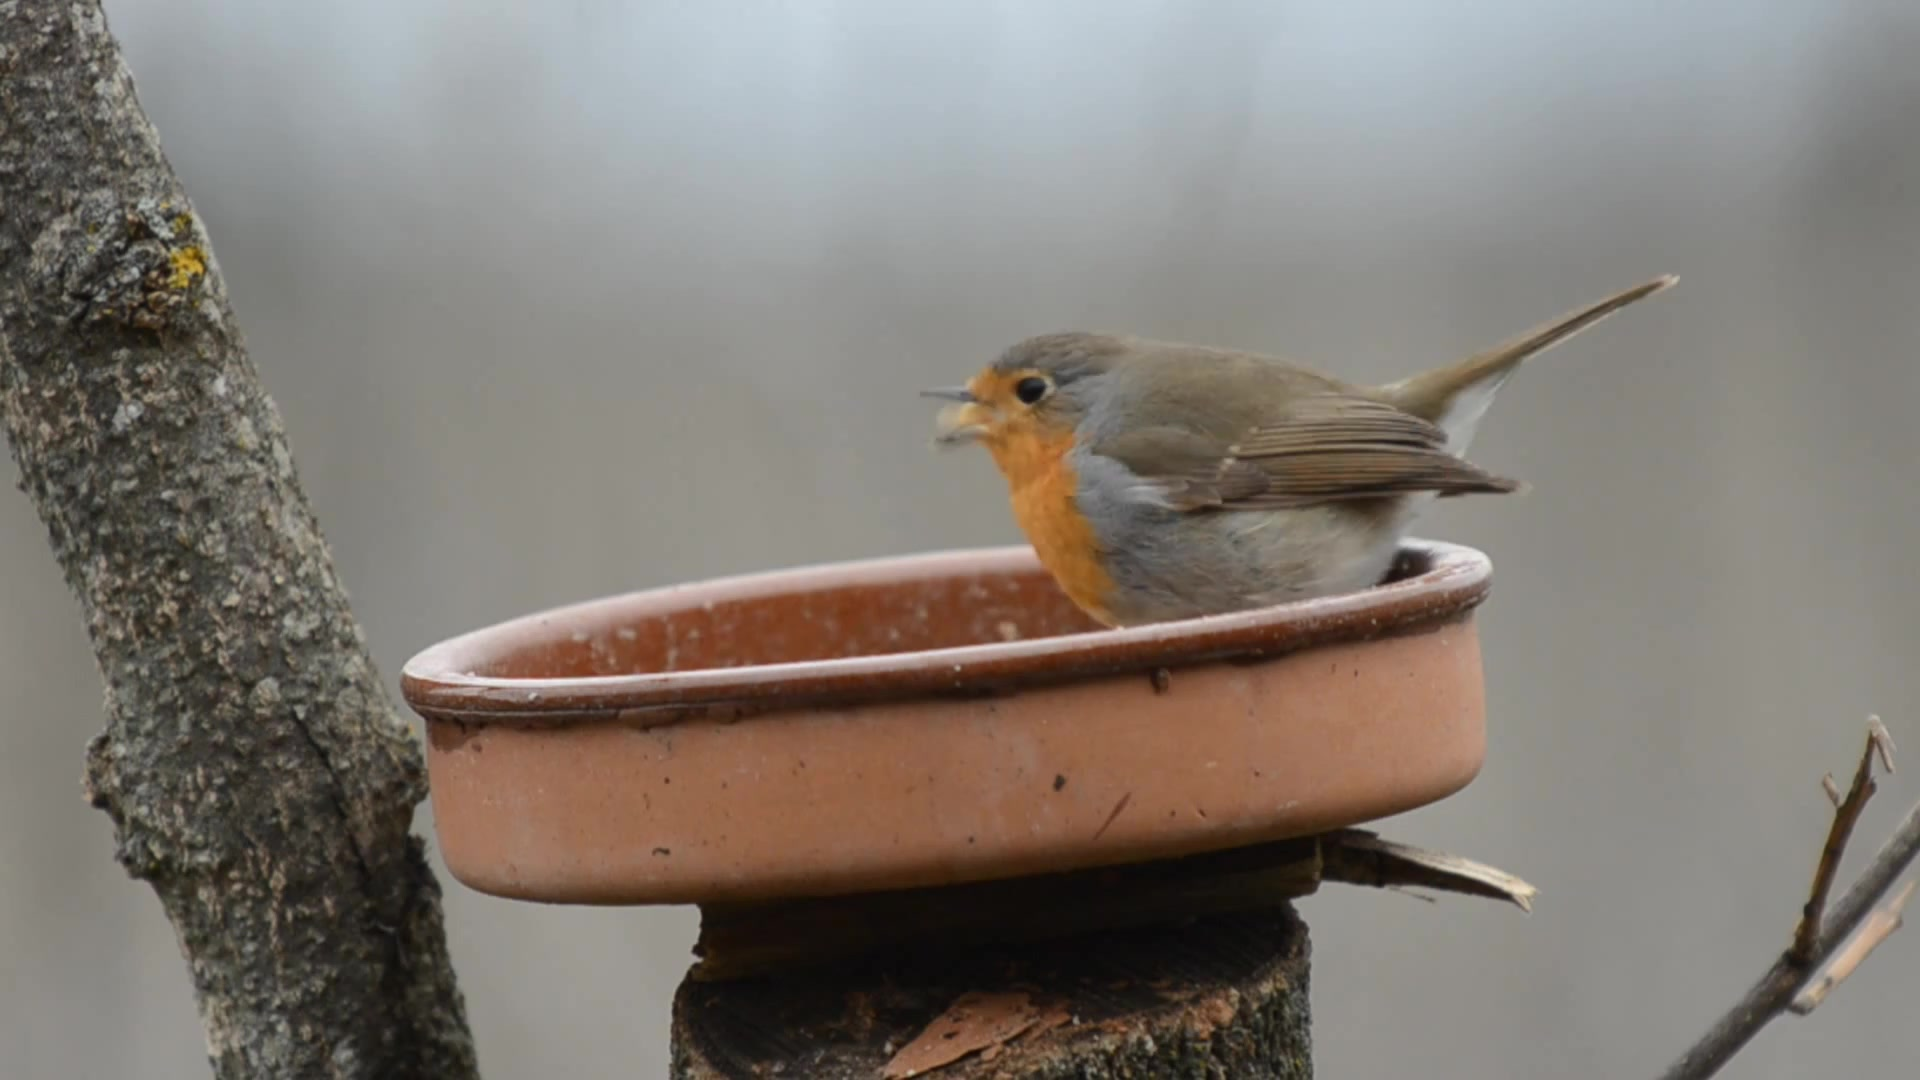bird: (916, 273, 1677, 632)
